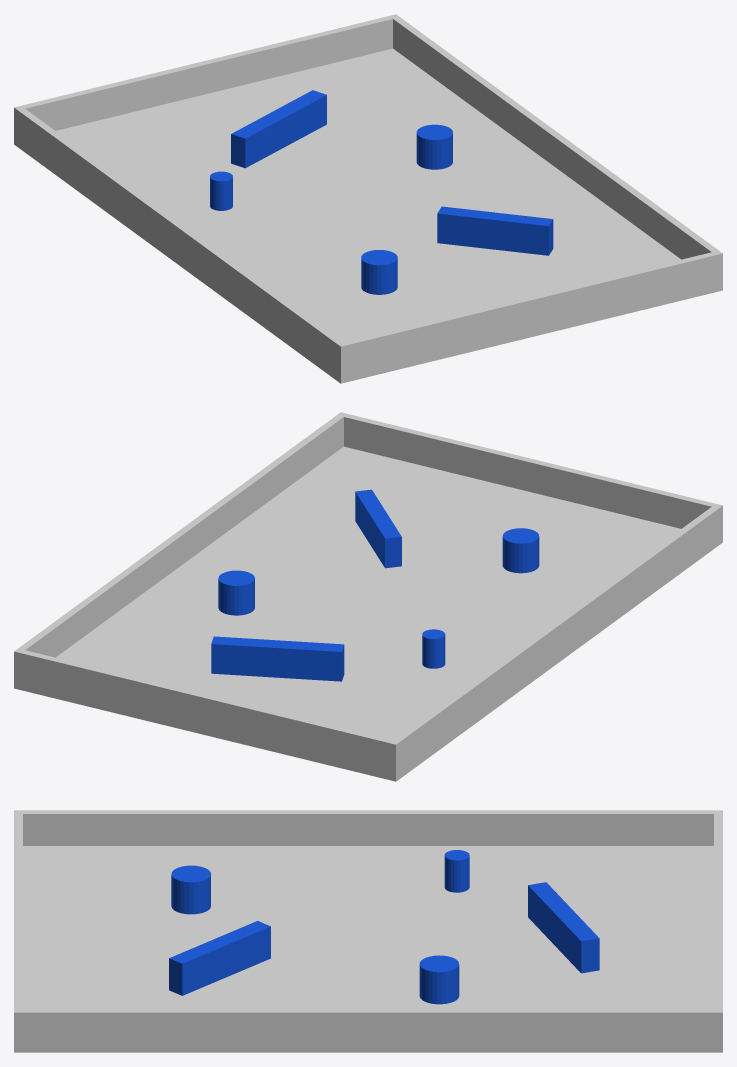
Rendered from omni_stage.dae.
3 views of the same model, one above another, from view 1: azimuth 30°, elevation 25°; view 2: azimuth 150°, elevation 25°; view 3: azimuth 270°, elevation 25° (orthographic). The views are drawn at different scales.
Parts seen in each view (by area): view 1: Omni Stage; view 2: Omni Stage; view 3: Omni Stage.
Part boxes in pixels (<box>): Omni Stage: <box>14,14,722,383</box>; Omni Stage: <box>14,412,722,781</box>; Omni Stage: <box>14,810,722,1052</box>.
Size of the model in its own units: 5.4 by 8 by 0.5.
